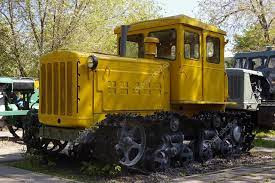tractor: (22, 13, 256, 179)
